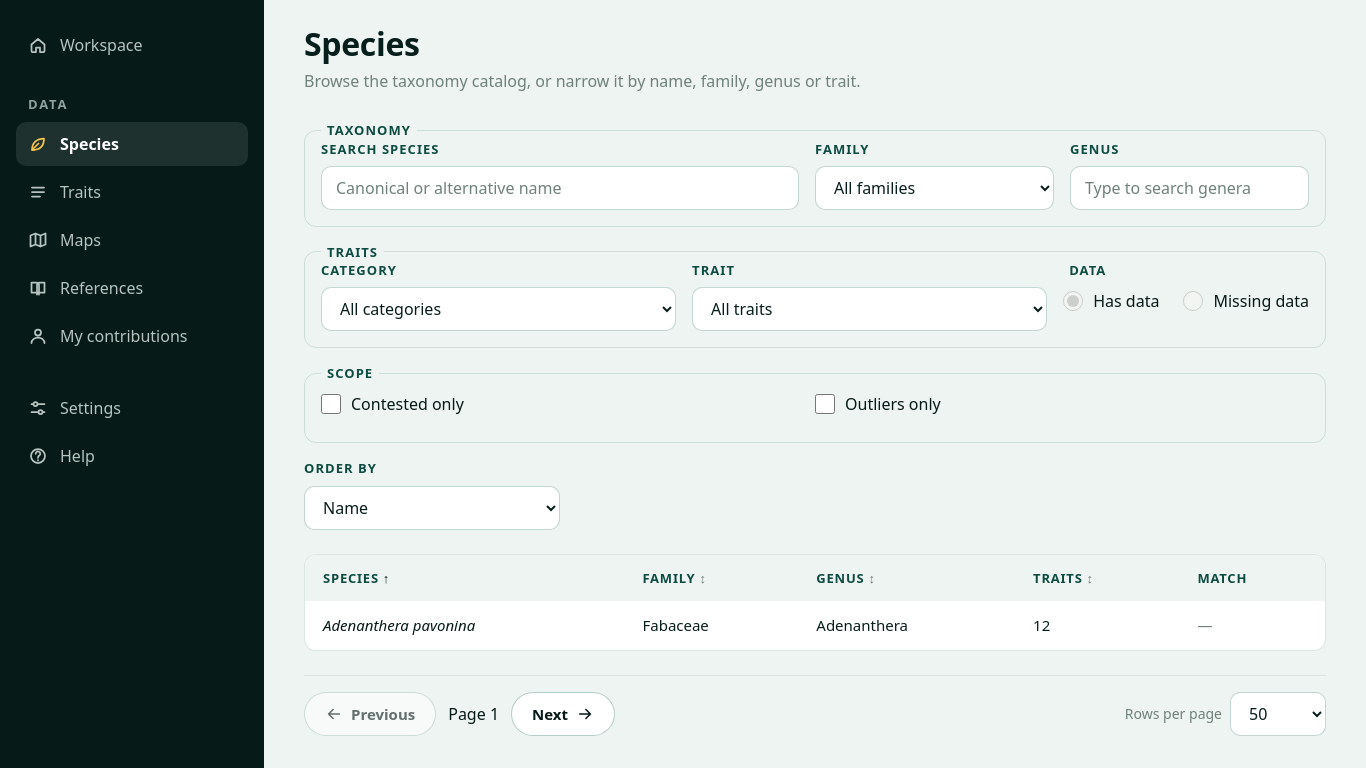
RFC-13 R2, RFC-60 R6 SpeciesSearchPage › steps to the next page with the cursor and back to the first
(page scrolled)
Expected: the heading "Species" is shown, [304,22,420,65]
Expected: the link "Adenanthera pavonina" is shown, [323,615,475,636]
Click the button "Next".
click(563, 714)  # box [511,692,615,736]
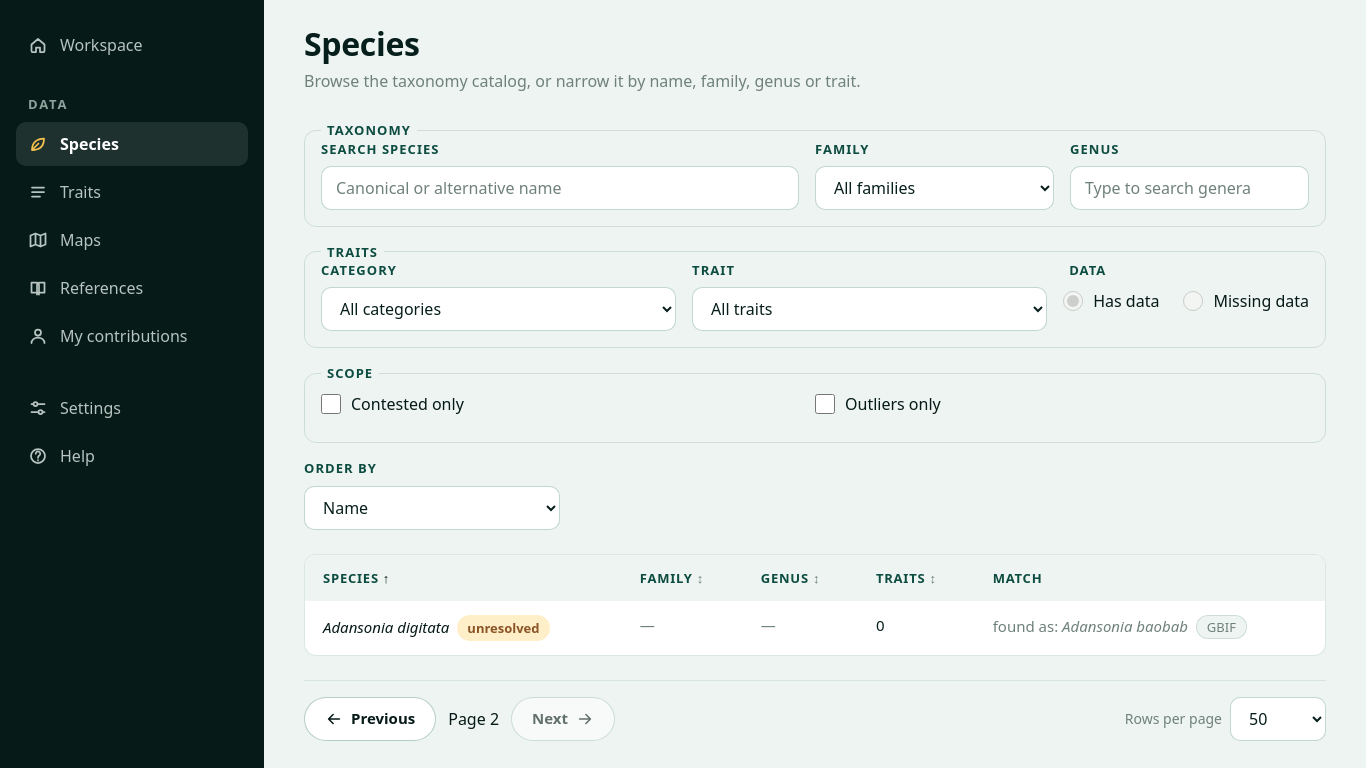
Now the link "Adansonia digitata" is shown, box [323,617,449,639]
Now the link "Adenanthera pavonina" is gone
Now the text "Page 2" is shown, box [448,707,499,731]
Click the button "Previous".
click(370, 719)  # box [304,697,436,741]
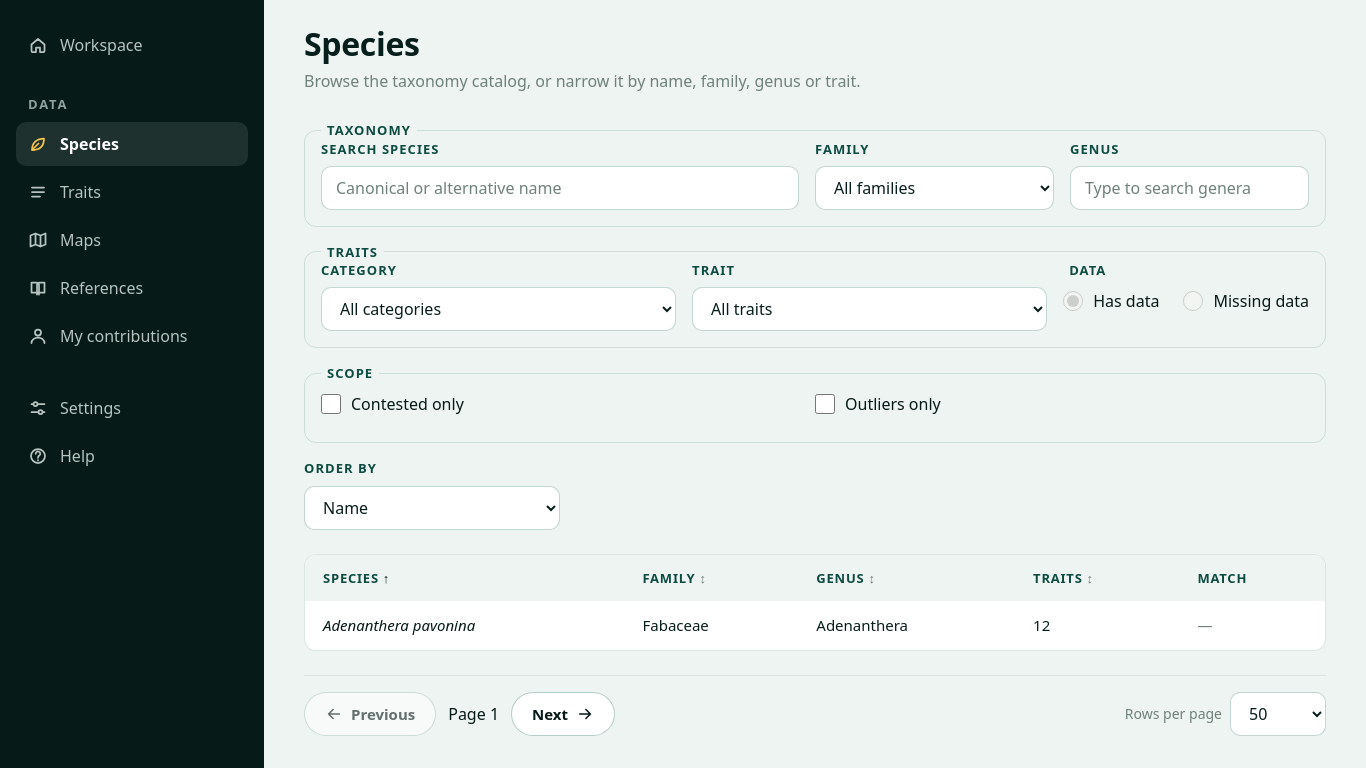
Now the link "Adenanthera pavonina" is shown, box [323,615,475,636]
Now the text "Page 1" is shown, box [448,702,499,726]
Now the button "Previous" is disabled, box [304,692,436,736]
